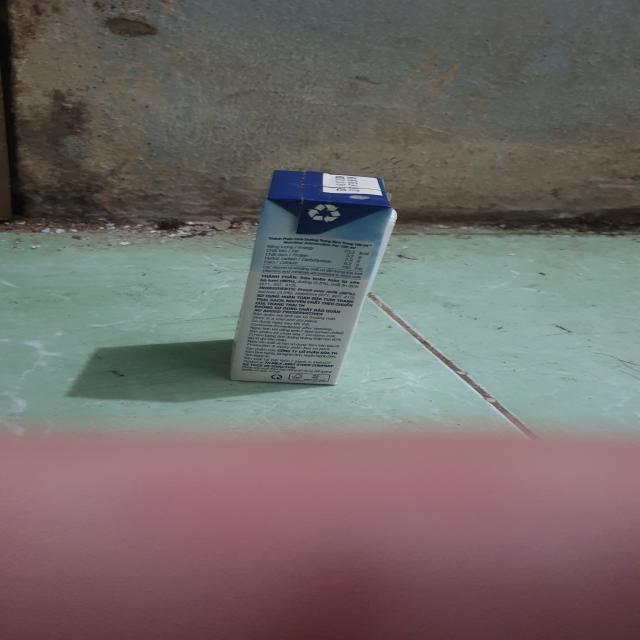TH: (220, 167, 402, 392)
